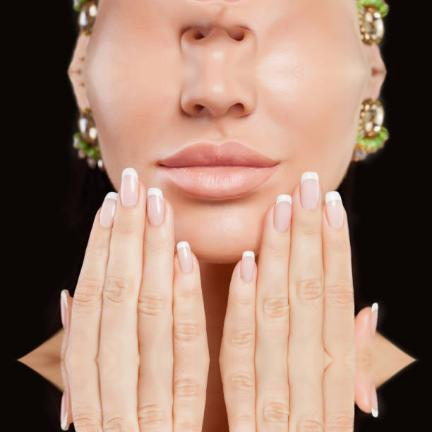Nail: (300, 172, 319, 210), (325, 191, 344, 229), (121, 168, 139, 207), (146, 187, 164, 226), (99, 192, 118, 228), (274, 194, 292, 232), (60, 290, 73, 335), (60, 385, 73, 430), (176, 241, 193, 274), (240, 251, 255, 282), (372, 303, 378, 338), (372, 382, 378, 417)
